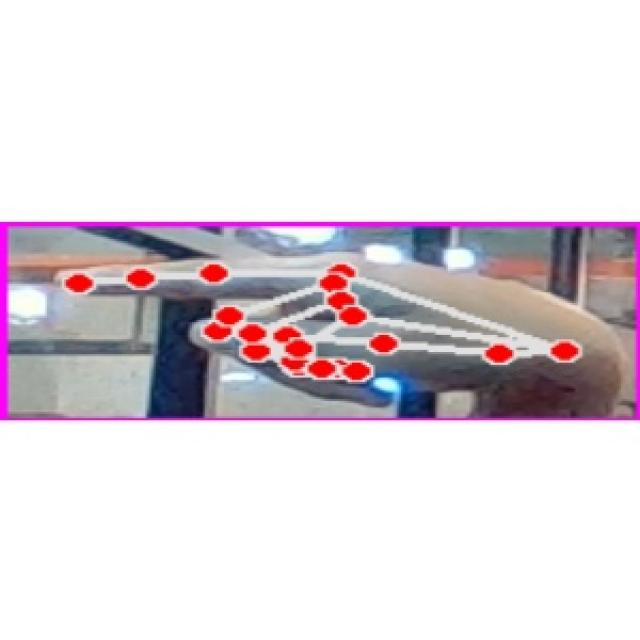G: (46, 248, 622, 404)
